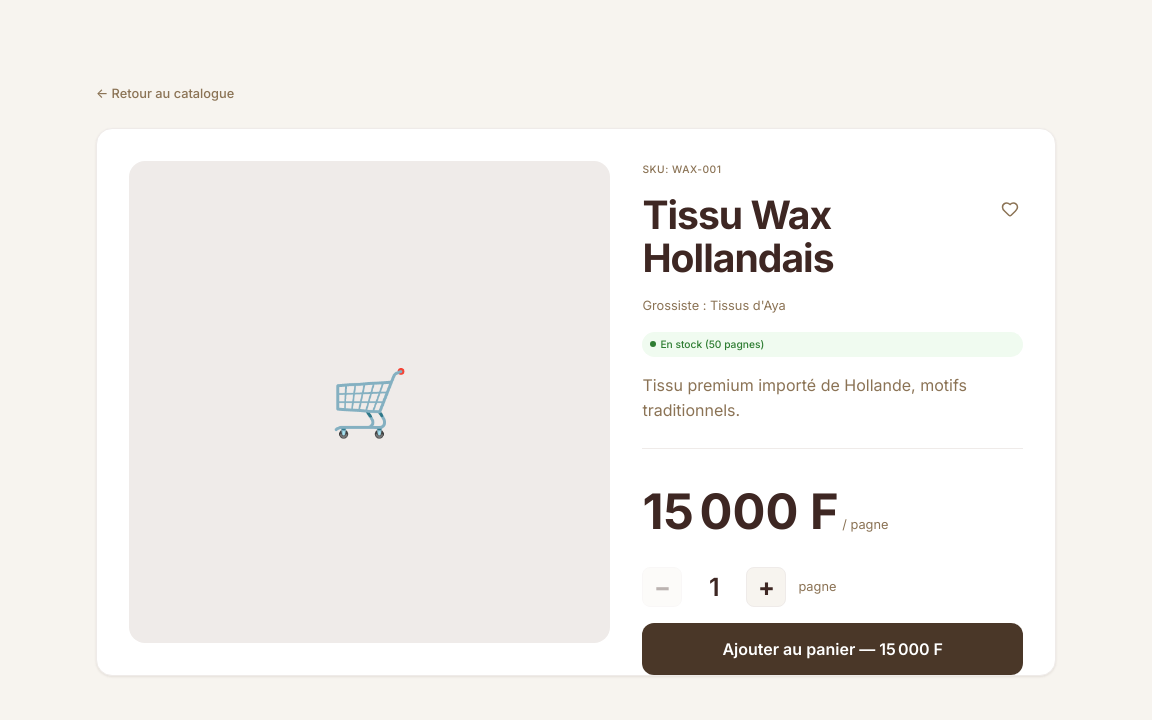
Test: ProductDetail — UC-10 › Quantity selector › decrements quantity (minimum 1)
Check: the heading "Tissu Wax Hollandais" is shown, box [642, 191, 834, 281]
# Go to 2 first
Step 1. Click the button with test id "qty-plus" → coordinates (766, 587), box [746, 567, 786, 607]
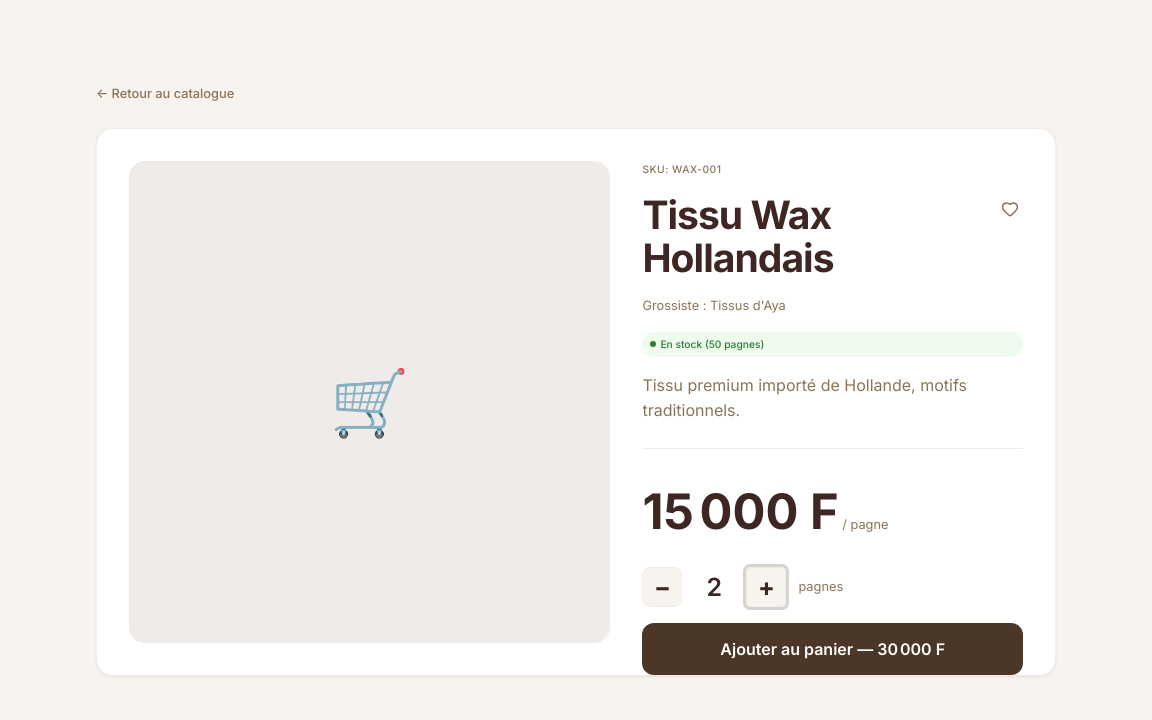
Check: the text with test id "qty-value" reads "2", box [707, 572, 722, 602]
# Decrement back to 1
Step 2. Click the button with test id "qty-minus" → coordinates (662, 587), box [642, 567, 682, 607]
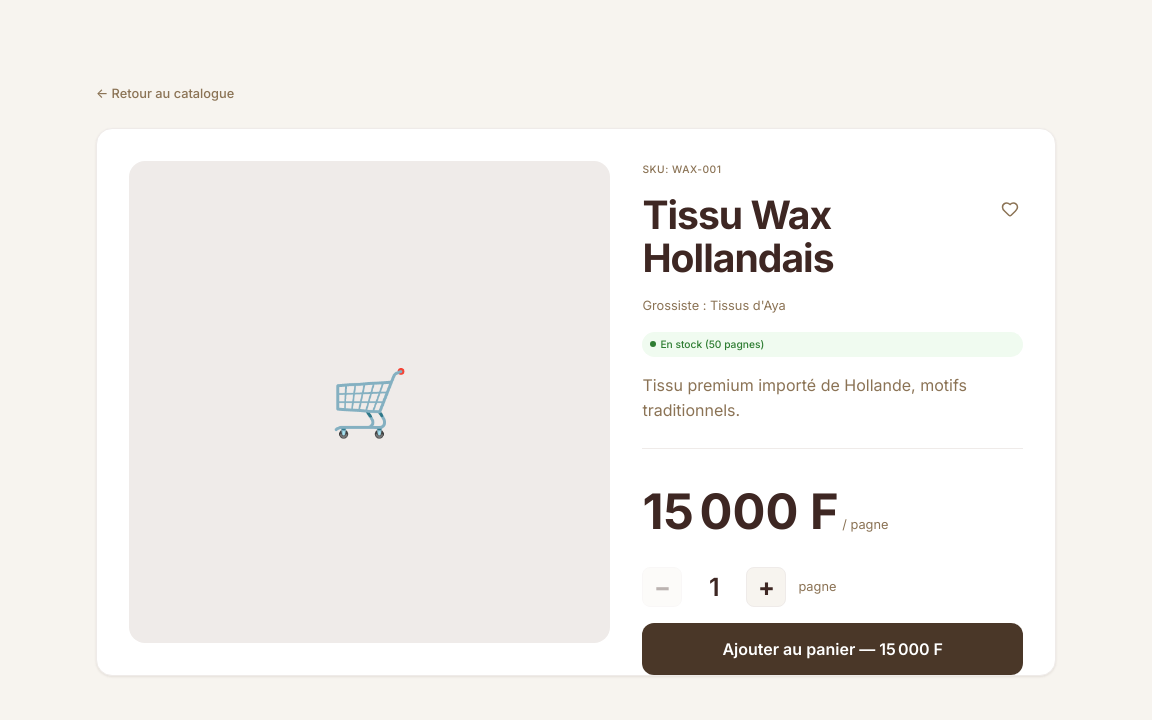
Check: the text with test id "qty-value" reads "1", box [709, 572, 720, 602]
